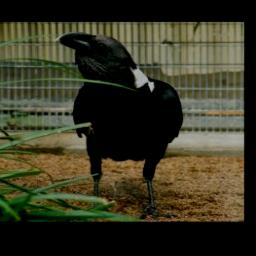Crow: (52, 31, 183, 220)
